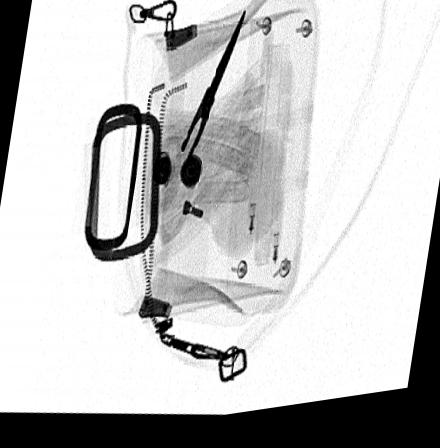Scissors: (140, 13, 247, 249)
